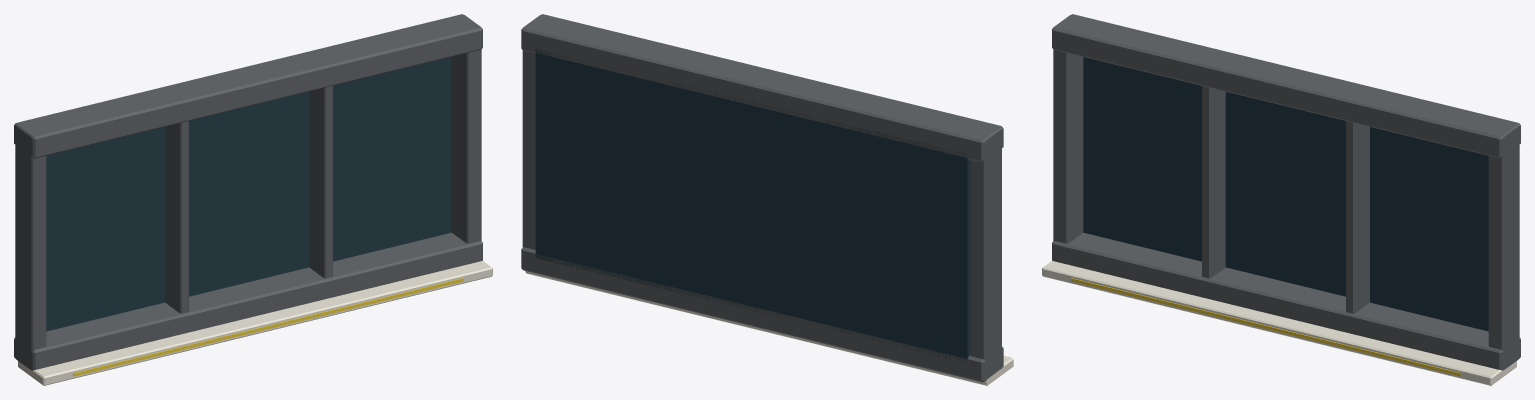
The model's file is viewport_frame.glb.
The picture shows the model from 3 angles, left to right: view 1: azimuth 30°, elevation 25°; view 2: azimuth 150°, elevation 25°; view 3: azimuth 330°, elevation 25°; orthographic projection. The views are drawn at different scales.
Visible parts, largest first — view 1: viewport_frame; view 2: viewport_frame; view 3: viewport_frame.
Part boxes in pixels (x1,y1,x2,y2): viewport_frame: (14,14,492,385); viewport_frame: (521,14,1013,385); viewport_frame: (1042,14,1520,385).
Bounding box in the file's own units: 3 × 1.54 × 0.355.
